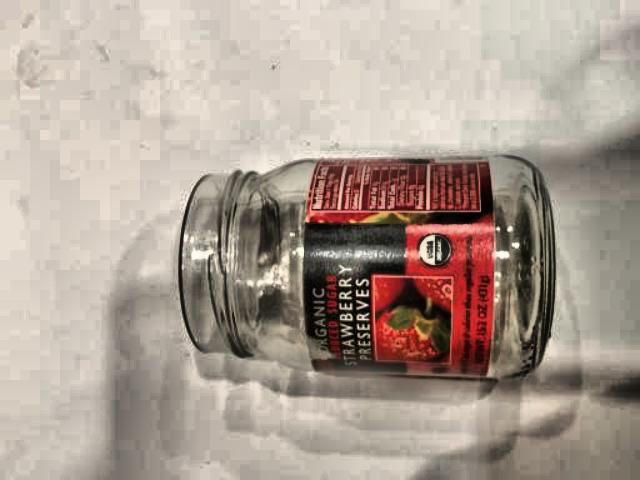Almennt: (165, 124, 577, 415)
